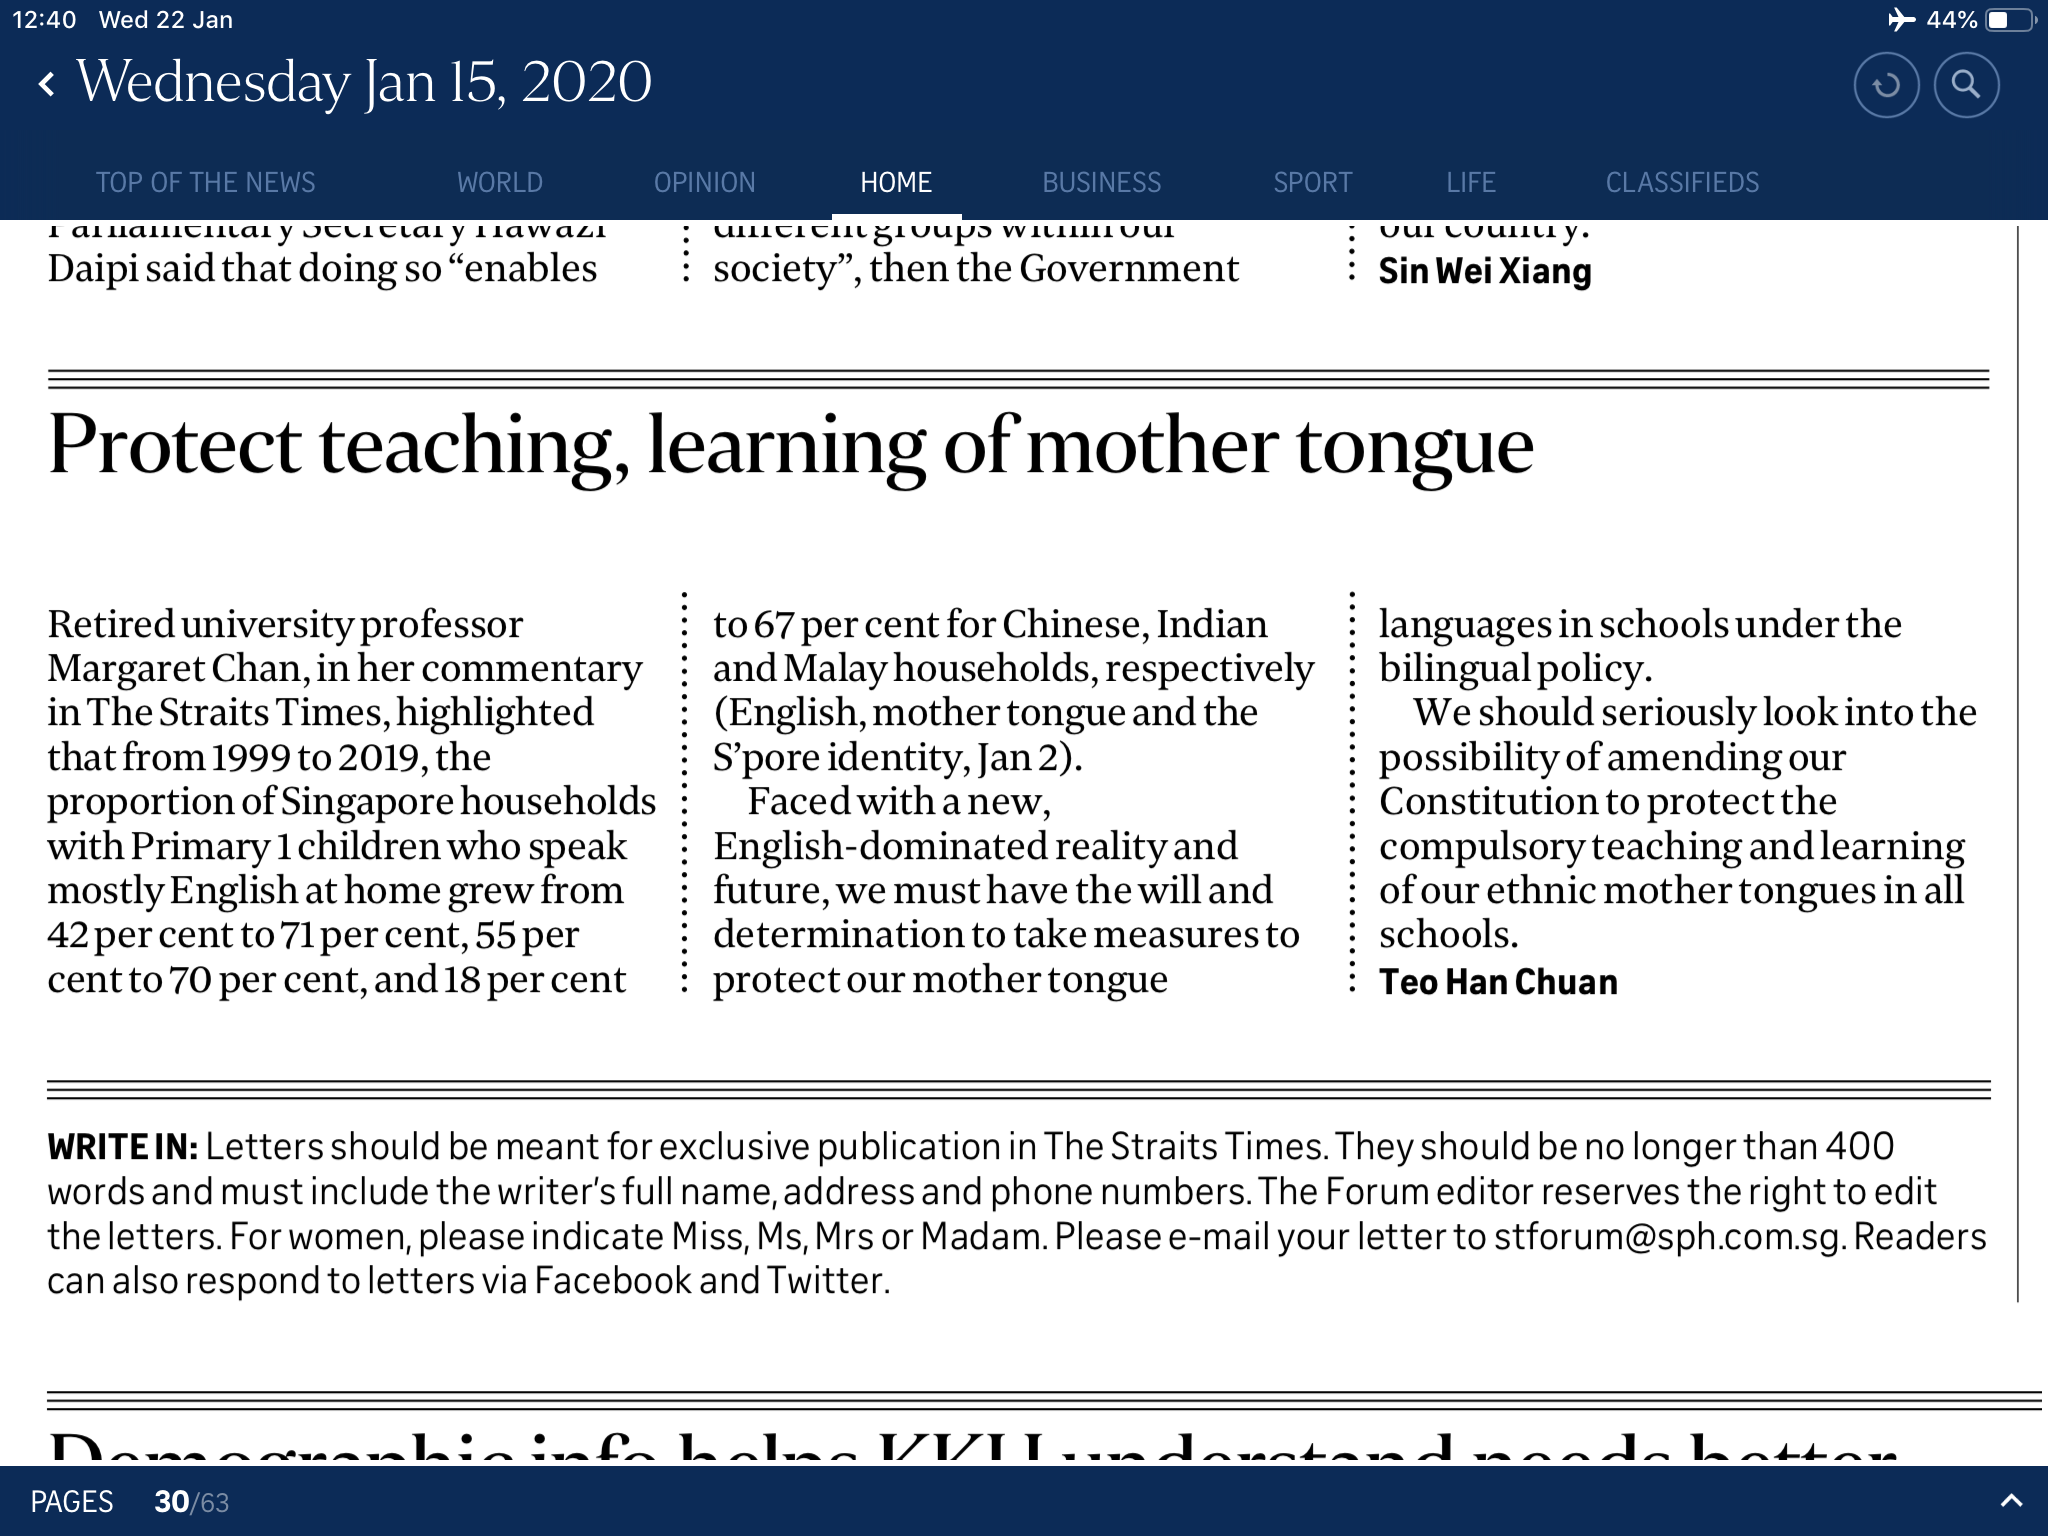Byline: (1379, 962, 1624, 1004), (1376, 255, 1593, 294)
Headline: (48, 407, 1542, 497)
Text: (47, 1128, 1992, 1299), (45, 607, 658, 1002), (705, 610, 1317, 1002), (1376, 603, 1979, 955)
